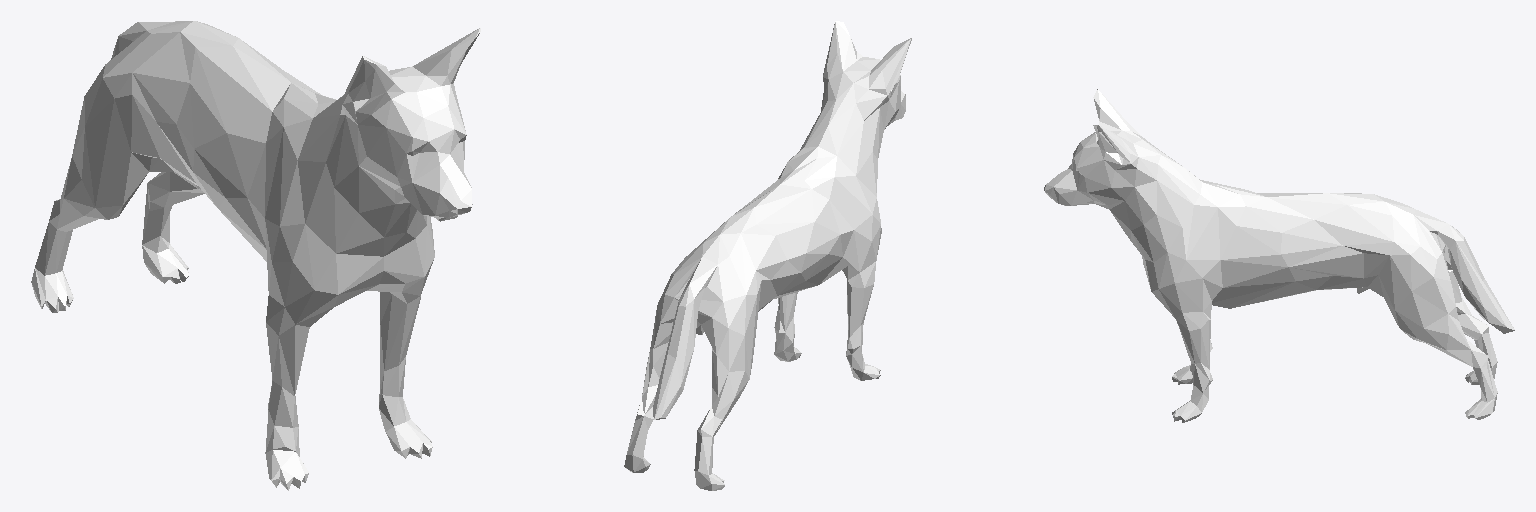
URDF robot description (simple_dog6.obj):
<robot name="simple_dog6.obj">
	<link name="_name">
		<visual>
			<origin xyz="0 0 0" rpy="0 0 0" />
			<geometry>
				<mesh filename="simple_dog6.obj" scale="0.1 0.1 0.10" />
			</geometry>
			<material name="texture">
				<color rgba="1.0 1.0 1.0 1.0" />
			</material>
		</visual>
		<collision>
			<geometry>
				<mesh filename="simple_dog6_vhacd.obj" scale="0.1 0.1 0.1" />
			</geometry>
		</collision>
		<inertial>
			<mass value="1.0" />
			<inertia ixx="1.0" ixy="0.0" ixz="0.0" iyy="1.0" iyz="0.0" izz="1.0" />
		</inertial>
	</link>
</robot>

--- Facts derived from the render (not from the file) ---
3 views of the same robot in one strip: view 1: azimuth 30°, elevation 25°; view 2: azimuth 150°, elevation 25°; view 3: azimuth 270°, elevation 25° (orthographic).
Model simple_dog6.obj with 1 links and 0 joints (none), rooted at _name, posed all joints at 0.
Links seen in each view (by area): view 1: _name; view 2: _name; view 3: _name.
Link boxes in pixels (x1,y1,x2,y2): _name: [31, 21, 480, 490]; _name: [624, 21, 911, 490]; _name: [1044, 89, 1514, 422].
Size in the robot's own frame: 0.9449 by 3.88 by 2.67 metres.
Meshes: 1 distinct files referenced, 1 mesh visuals loaded (1 OBJ).